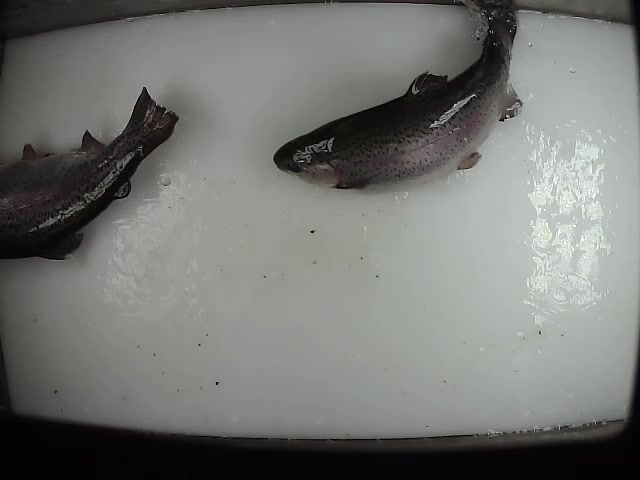fish: (271, 1, 525, 193), (1, 84, 181, 262)
